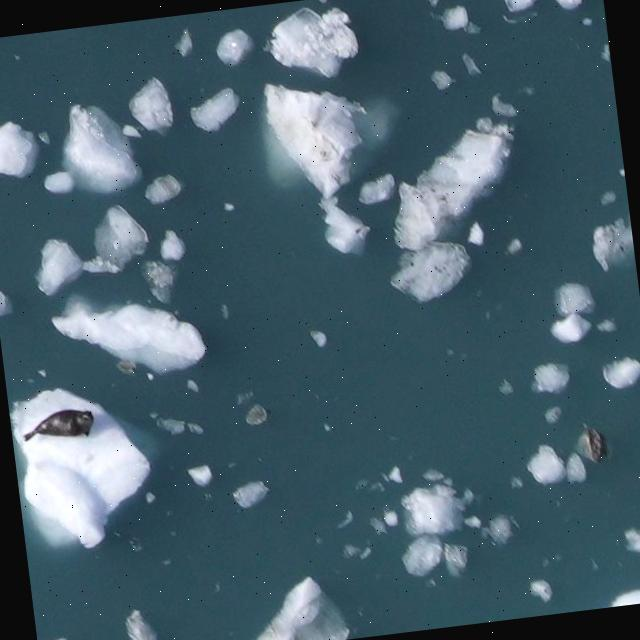seal: (20, 405, 95, 445)
